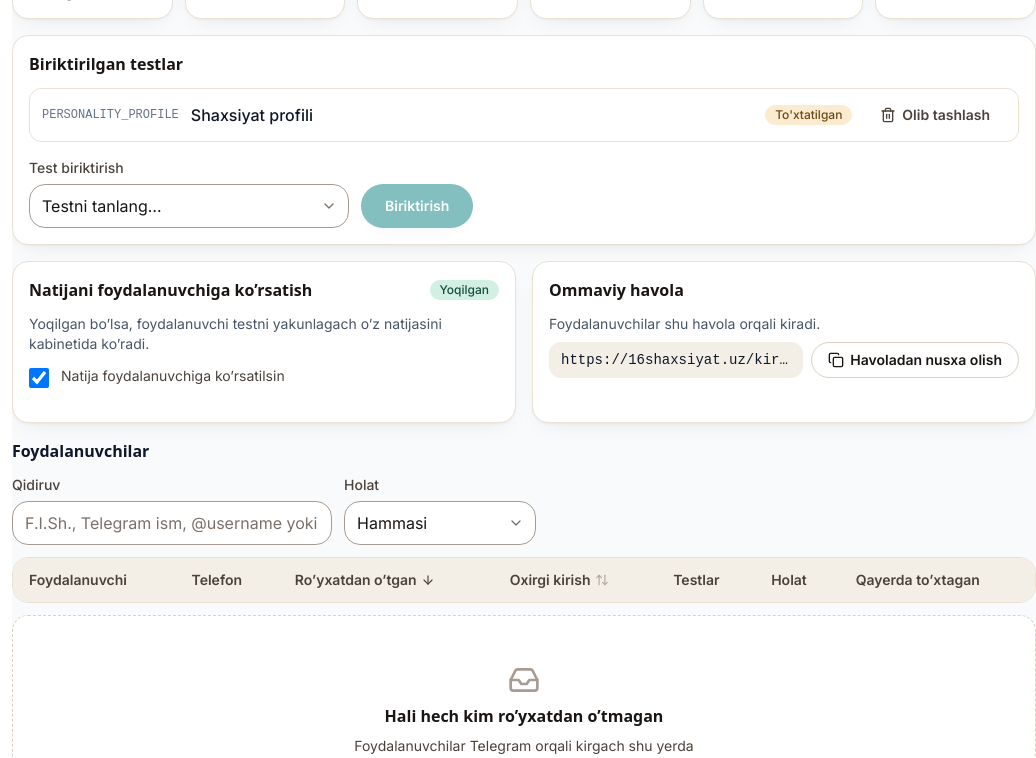
Test case: PublicSpacePage › natijani ko'rsatish sozlamasi PUT so'rovi bilan o'zgaradi
(page scrolled)
Click the checkbox labelled "Natija foydalanuvchiga ko’rsatilsin" at (39, 378), box [29, 368, 49, 388]
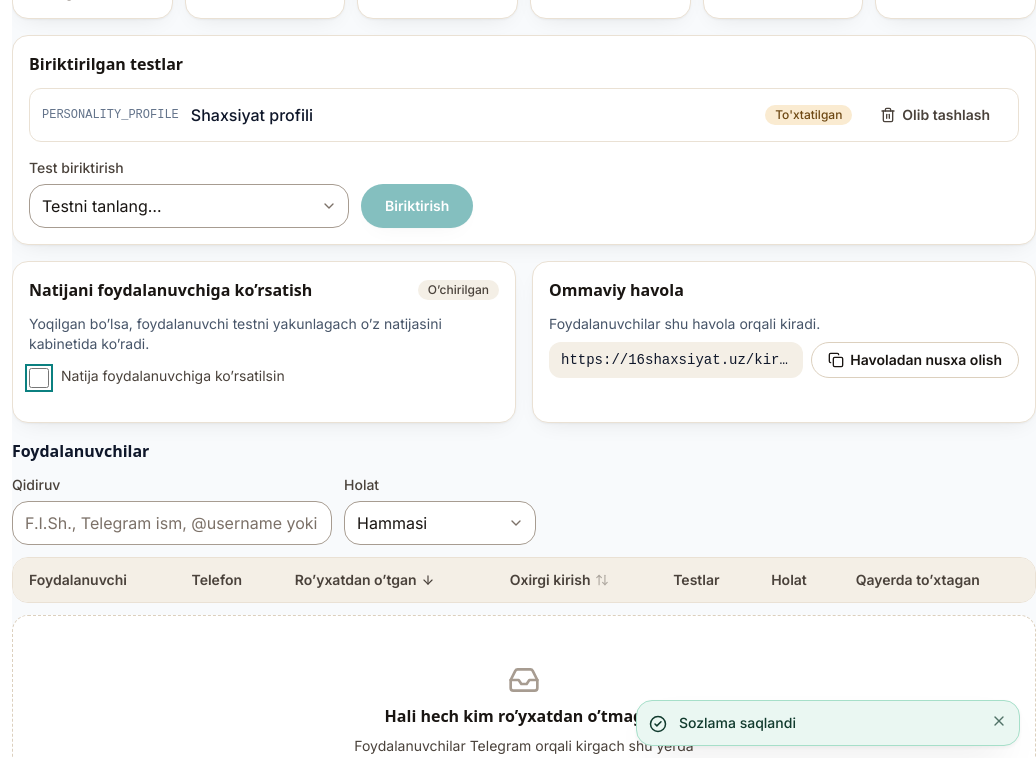
expect the text "Sozlama saqlandi" is shown: met, box [679, 714, 796, 731]
